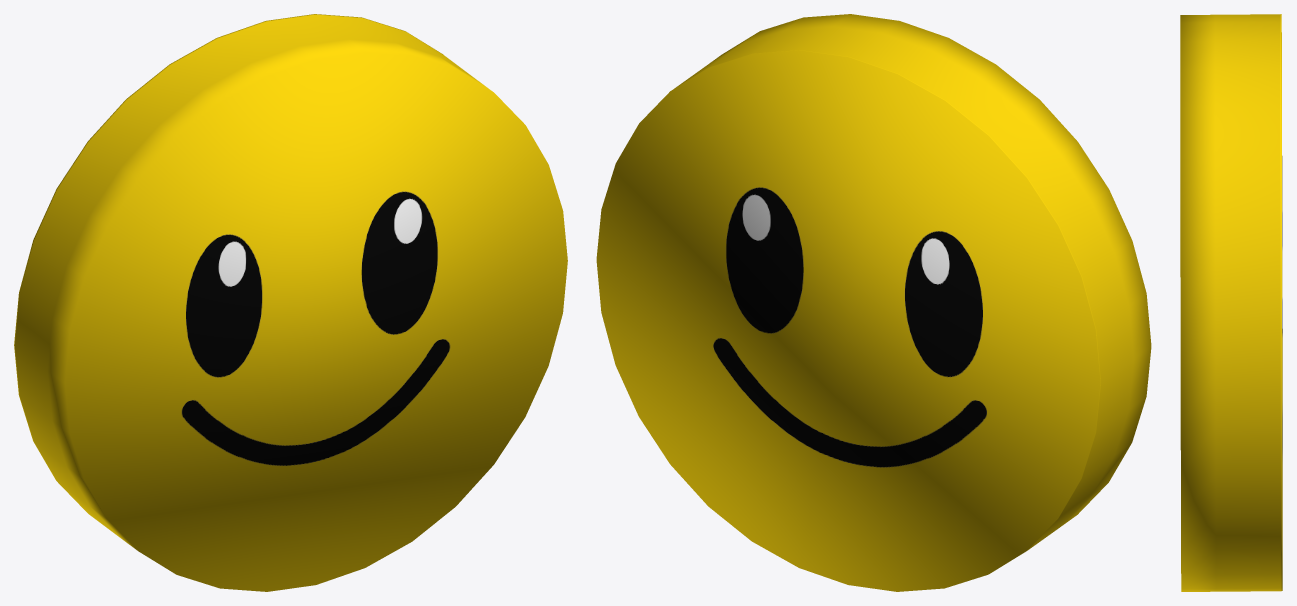
The model's file is emotion1.gltf.
3 renders of one model, left to right at view 1: azimuth 30°, elevation 25°; view 2: azimuth 150°, elevation 25°; view 3: azimuth 270°, elevation 25°, orthographic.
Parts seen in each view (by area): view 1: 1; view 2: 1; view 3: 1.
Part boxes in pixels (x1=…): 1: x1=14, y1=14, x2=567, y2=591; 1: x1=596, y1=14, x2=1151, y2=591; 1: x1=1180, y1=14, x2=1282, y2=591.
Size of the model in its own units: 0.2522 by 0.2527 by 0.0448.
1 material, 1 textured.
